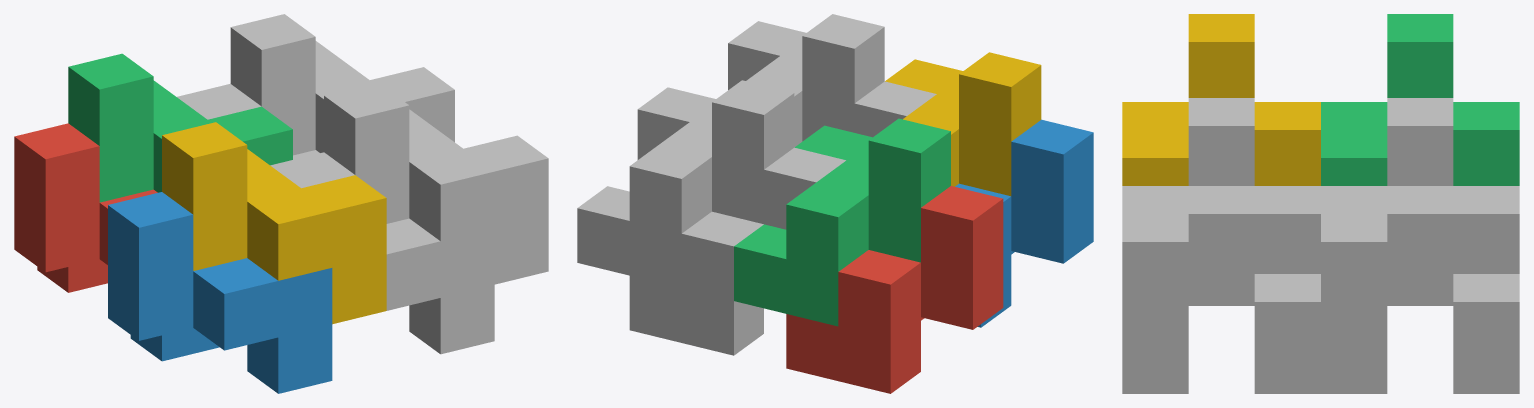
Rendered from tiling.obj.
The picture shows the model from 3 angles, left to right: view 1: azimuth 30°, elevation 25°; view 2: azimuth 150°, elevation 25°; view 3: azimuth 270°, elevation 25°; orthographic projection. The views are drawn at different scales.
Visible parts, largest first — view 1: copy_1_domain_2, copy_1_domain_4, copy_1_domain_8, copy_1_domain_3, copy_1_domain_1, copy_1_domain_6, copy_1_domain_7, copy_1_domain_5; view 2: copy_1_domain_7, copy_1_domain_3, copy_1_domain_1, copy_1_domain_5, copy_1_domain_8, copy_1_domain_4, copy_1_domain_2, copy_1_domain_6; view 3: copy_1_domain_7, copy_1_domain_8, copy_1_domain_3, copy_1_domain_4, copy_1_domain_5, copy_1_domain_6.
Part boxes in pixels (x1,y1,x2,y2): copy_1_domain_2: [108, 192, 332, 393]; copy_1_domain_4: [162, 122, 386, 324]; copy_1_domain_8: [324, 82, 548, 284]; copy_1_domain_3: [68, 53, 292, 202]; copy_1_domain_1: [14, 123, 157, 292]; copy_1_domain_6: [270, 152, 494, 354]; copy_1_domain_7: [230, 14, 454, 155]; copy_1_domain_5: [177, 83, 319, 159]; copy_1_domain_7: [577, 80, 794, 288]; copy_1_domain_3: [734, 118, 950, 326]; copy_1_domain_1: [786, 186, 1003, 393]; copy_1_domain_5: [629, 147, 845, 355]; copy_1_domain_8: [728, 14, 884, 147]; copy_1_domain_4: [885, 52, 1041, 196]; copy_1_domain_2: [955, 119, 1093, 327]; copy_1_domain_6: [854, 81, 936, 137]; copy_1_domain_7: [1321, 98, 1519, 361]; copy_1_domain_8: [1122, 98, 1320, 361]; copy_1_domain_3: [1321, 14, 1519, 185]; copy_1_domain_4: [1122, 14, 1320, 185]; copy_1_domain_5: [1321, 274, 1519, 393]; copy_1_domain_6: [1122, 274, 1320, 393].
Bounding box in the file's own units: 7 × 4 × 6.
